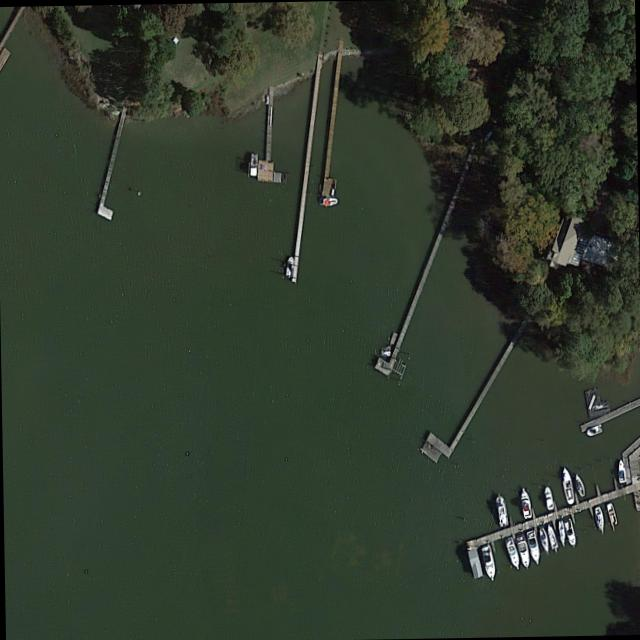ship: (504, 532, 522, 571), (481, 542, 498, 583), (515, 530, 532, 569), (525, 527, 542, 566), (560, 463, 575, 505), (544, 518, 560, 554), (562, 516, 579, 548), (495, 488, 509, 526), (592, 502, 607, 535), (519, 483, 533, 518), (605, 500, 619, 532), (572, 468, 587, 497), (537, 524, 551, 553), (557, 518, 567, 546), (585, 422, 603, 437), (544, 483, 554, 510), (617, 456, 626, 484), (318, 195, 338, 207), (285, 253, 294, 279), (249, 150, 257, 176), (482, 128, 493, 143), (379, 347, 390, 355)
